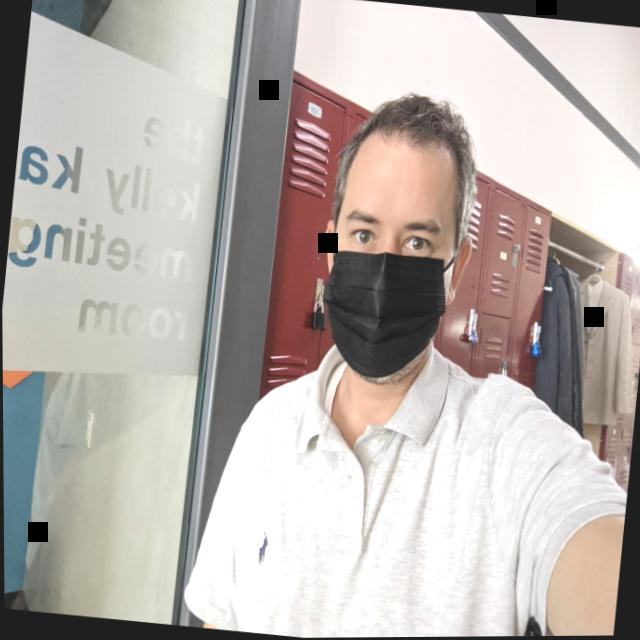Mask: (314, 152, 471, 395)
